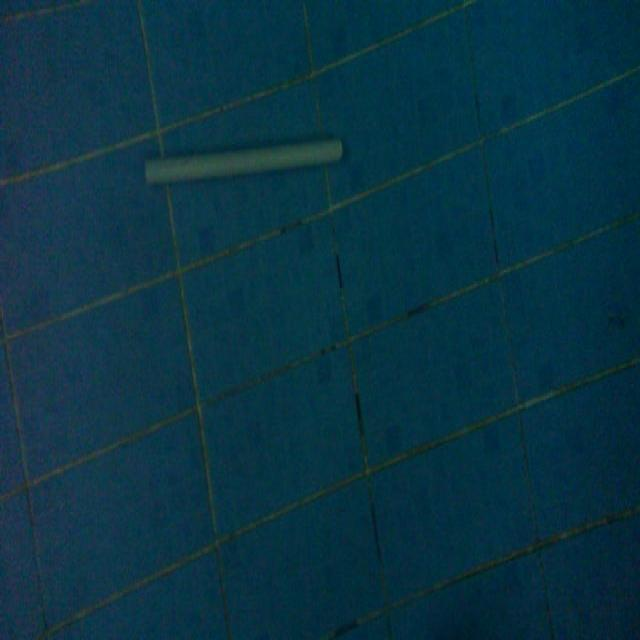Cube: (142, 132, 344, 188)
